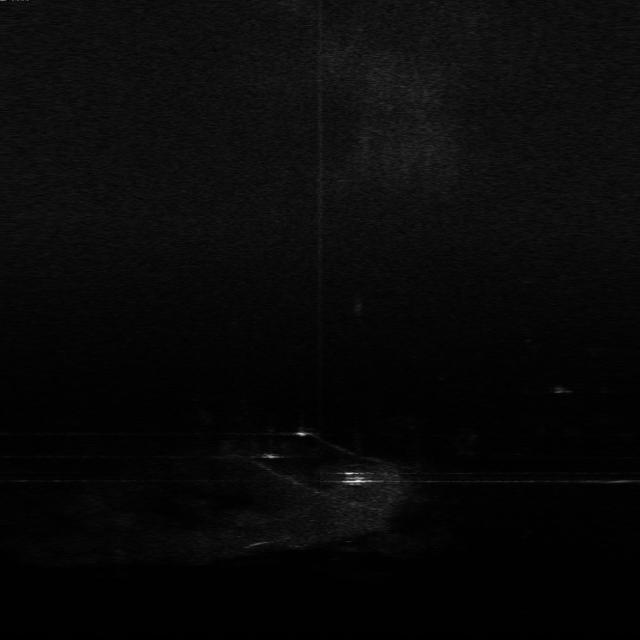rov: (342, 469, 374, 488)
